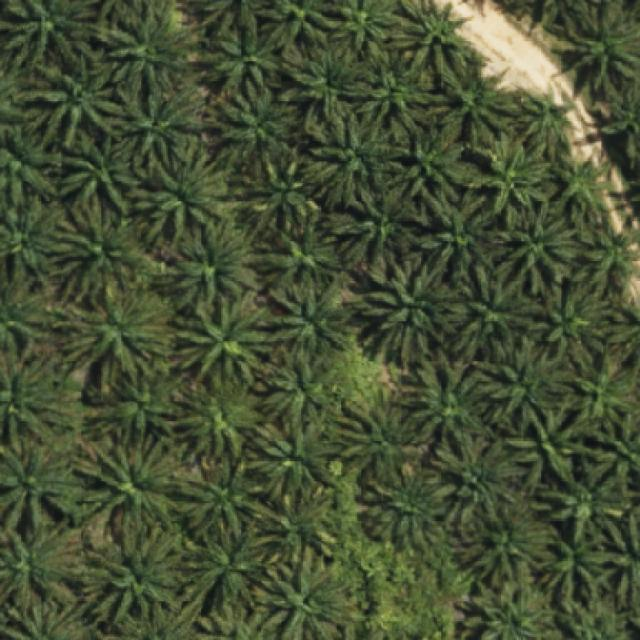Kelapa_Sawit: (50, 281, 178, 393), (356, 253, 461, 370), (88, 514, 190, 634), (125, 132, 230, 246), (172, 449, 288, 551), (71, 432, 189, 532), (299, 111, 412, 209), (20, 51, 132, 149), (47, 197, 142, 311), (397, 347, 492, 461), (472, 329, 576, 433), (171, 287, 277, 388), (181, 517, 282, 623), (163, 216, 265, 318), (96, 1, 199, 102), (168, 363, 269, 466), (385, 110, 483, 215), (440, 259, 538, 363), (207, 79, 305, 181), (432, 427, 528, 528), (334, 384, 432, 482), (248, 414, 344, 514), (455, 503, 559, 595), (428, 44, 520, 148), (506, 398, 600, 498), (525, 279, 617, 381), (278, 34, 376, 129), (356, 462, 449, 561), (253, 343, 339, 448), (537, 455, 634, 548), (195, 10, 290, 104), (494, 196, 581, 298), (111, 84, 204, 178), (350, 35, 439, 133), (53, 128, 149, 218), (328, 180, 426, 268), (260, 210, 346, 308), (414, 182, 498, 281), (252, 485, 341, 578), (270, 270, 356, 365), (466, 127, 557, 216), (531, 526, 623, 612), (237, 146, 320, 239), (91, 366, 178, 454), (560, 345, 638, 441), (512, 80, 580, 165), (547, 151, 618, 226), (575, 221, 639, 288)
